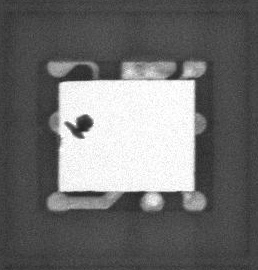DIE_INK: (60, 118, 89, 145)
